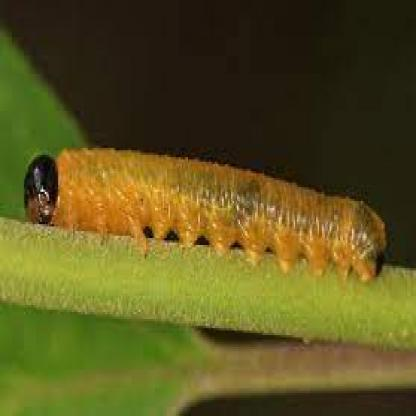sawfly: (17, 144, 388, 288)
